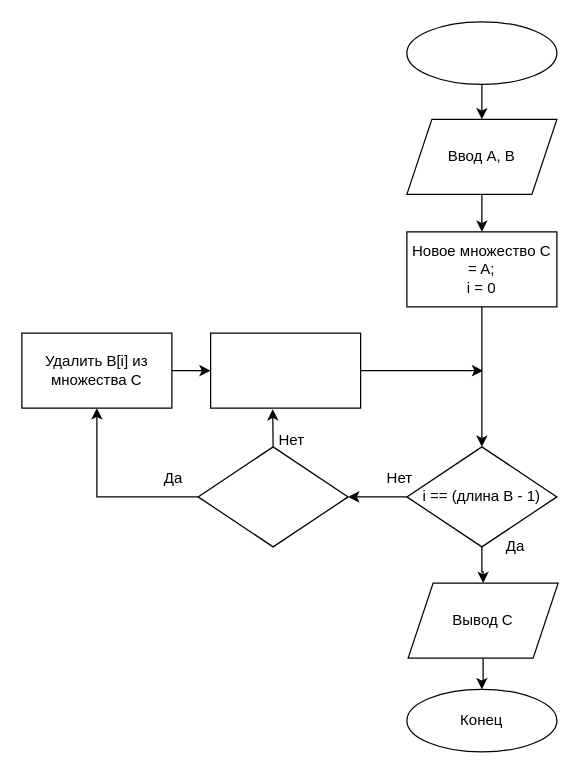
The diagram is 580 pixels wide and 774 high, and some of its shapes have lost their labels. Here are the shapes that lost their labels. From the top down, the centre of each, then its label:
(481,52): Начало
(285,370): i++
(272,496): B[i] есть в множестве C?
